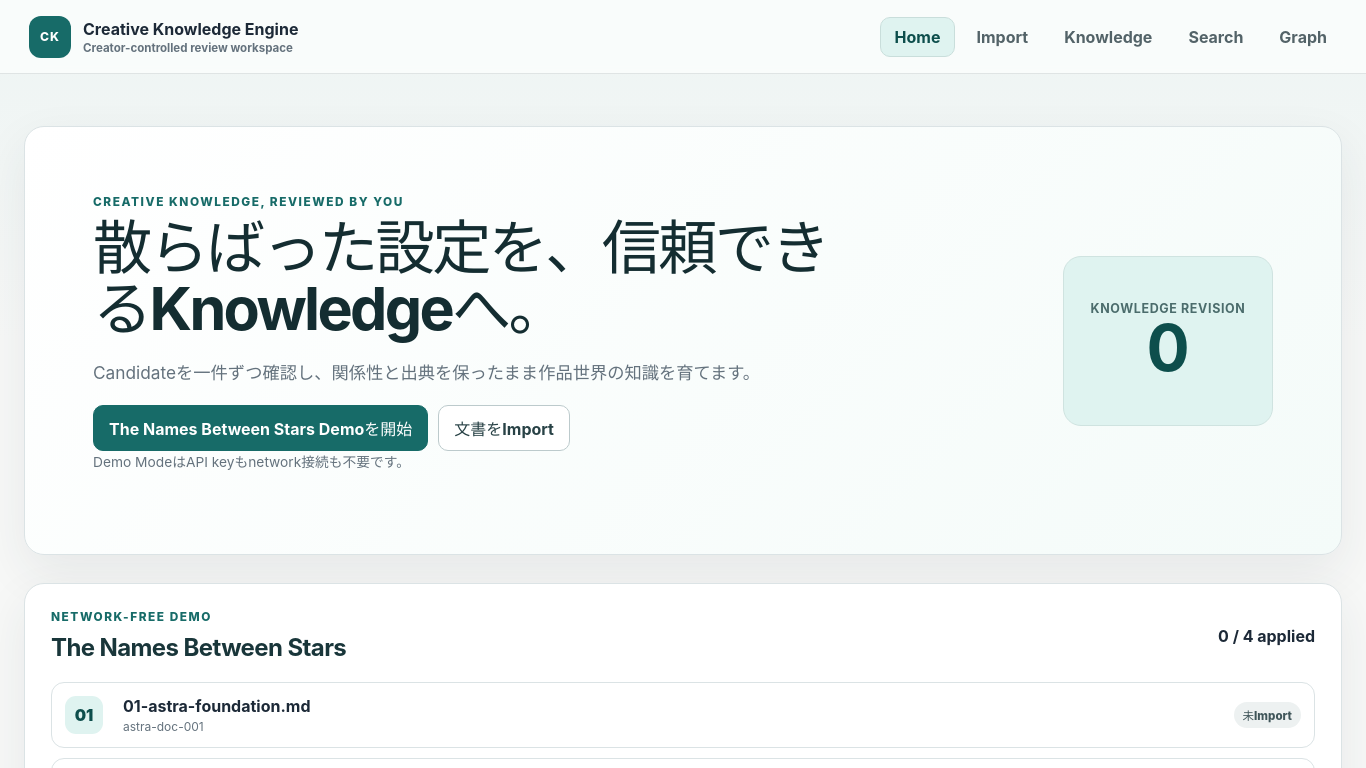
it: explicit Fixture and Live extraction routing › does not fall back to Fixture extraction after a Live failure
This screenshot has width=1366, height=768.
Expected: the heading "散らばった設定を、信頼できるKnowledgeへ。" is shown, [93,218,873,340]
Click the button "文書をImport" at (504, 428), box [438,405,570,451]
(page scrolled)
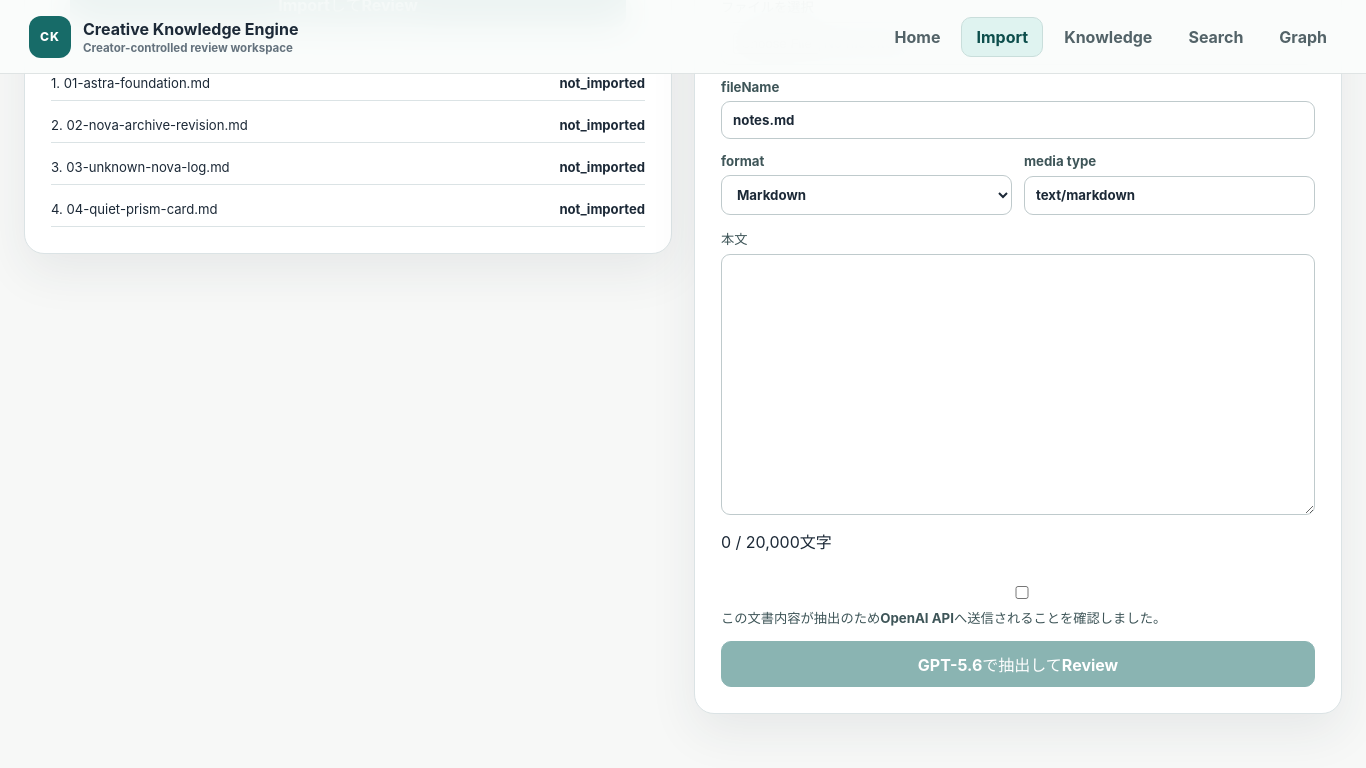
Type "Mira Vale" into the text box labelled "本文" at (1018, 384), box [721,254,1315,515]
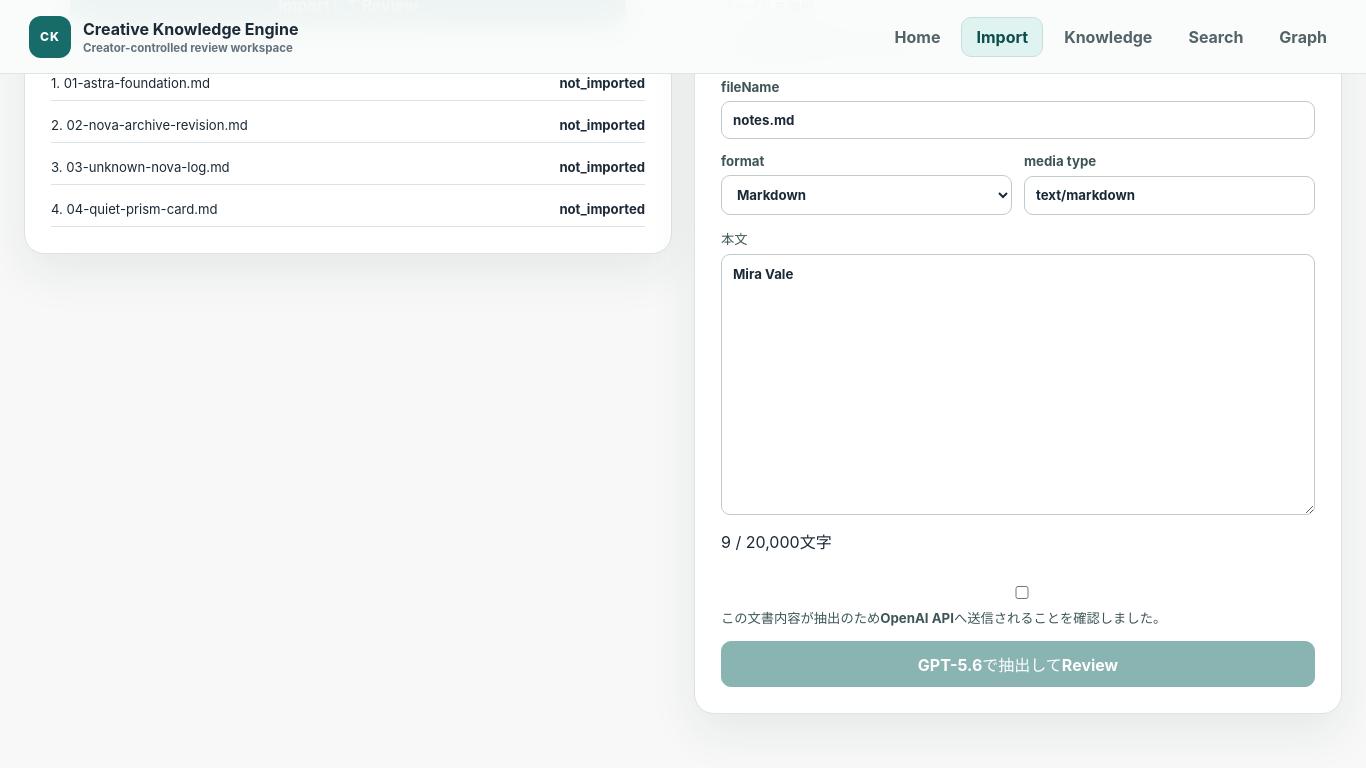
Click the checkbox at (1022, 592), box [725,586,1319,599]
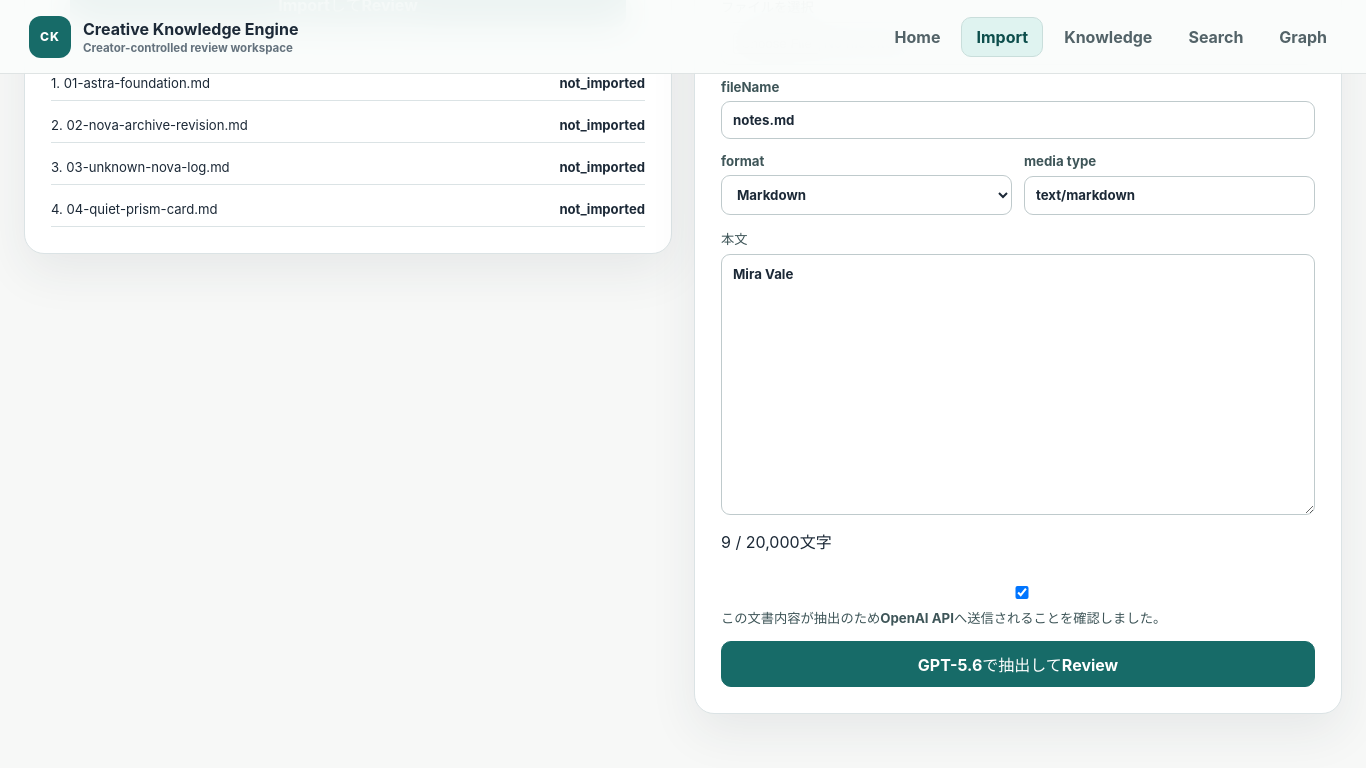
Click the button "GPT-5.6で抽出してReview" at (1018, 664), box [721,641,1315,687]
(page scrolled)
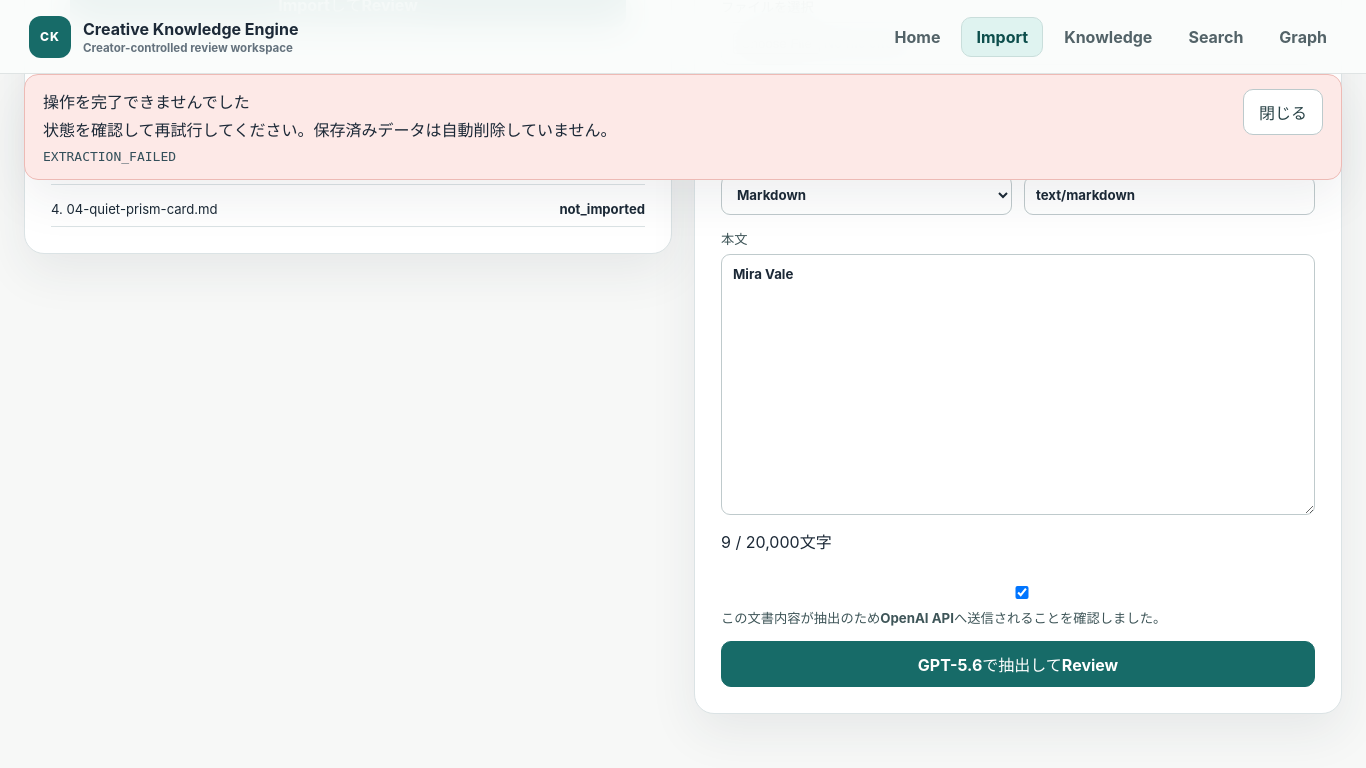
Expected: the text "操作を完了できませんでした" is shown, [43,92,250,112]
